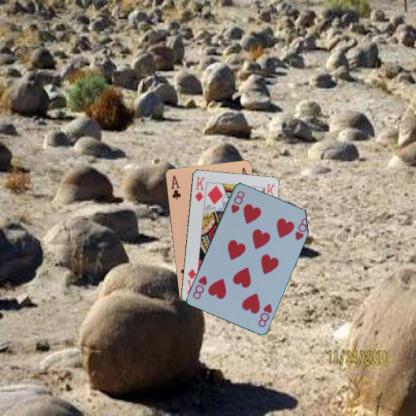8h: (256, 301, 274, 328), (228, 188, 246, 214)
Ac: (168, 173, 182, 200)
Kd: (192, 175, 206, 202)
